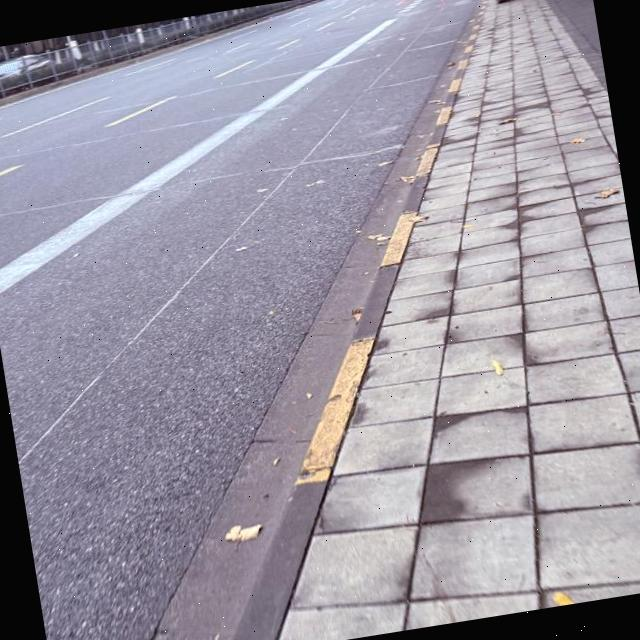curb: (235, 0, 490, 640), (0, 33, 219, 109), (534, 0, 617, 157)
